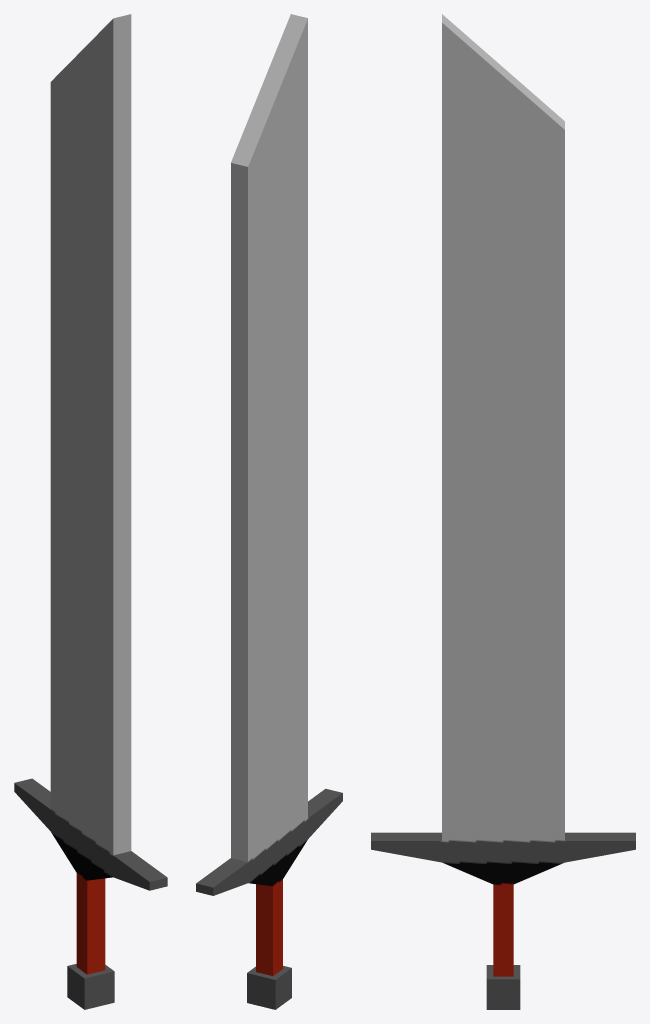
Rendered from LongSword.dae.
3 renders of one model, left to right at view 1: azimuth 30°, elevation 25°; view 2: azimuth 150°, elevation 25°; view 3: azimuth 270°, elevation 25°, orthographic. The views are drawn at different scales.
Parts seen in each view (by area): view 1: Cube; view 2: Cube; view 3: Cube.
Boxes of the visible parts, x1,y1,x2,y2 form: Cube: [14, 14, 167, 1009]; Cube: [196, 14, 342, 1009]; Cube: [371, 14, 635, 1009].
Bounding box in the file's own units: 0.06 × 0.4698 × 1.93.
1 material, 1 textured.
